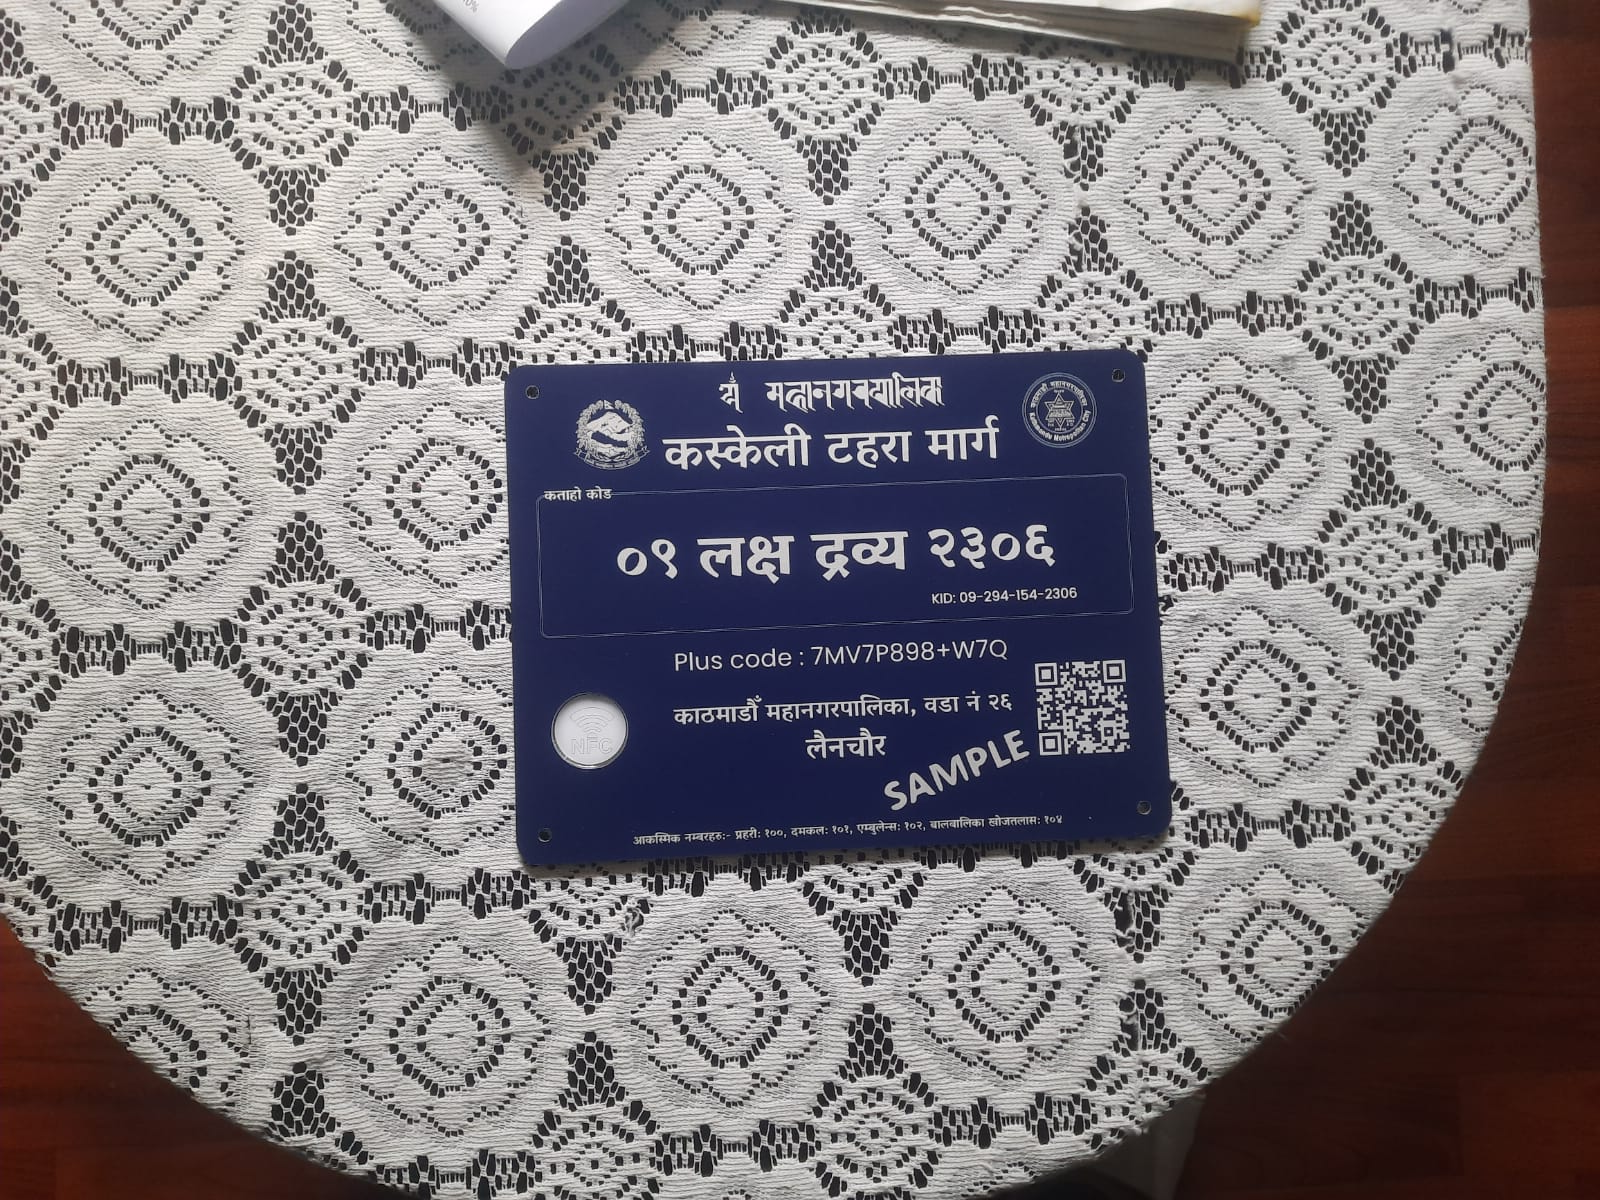Plate: (500, 342, 1182, 874)
